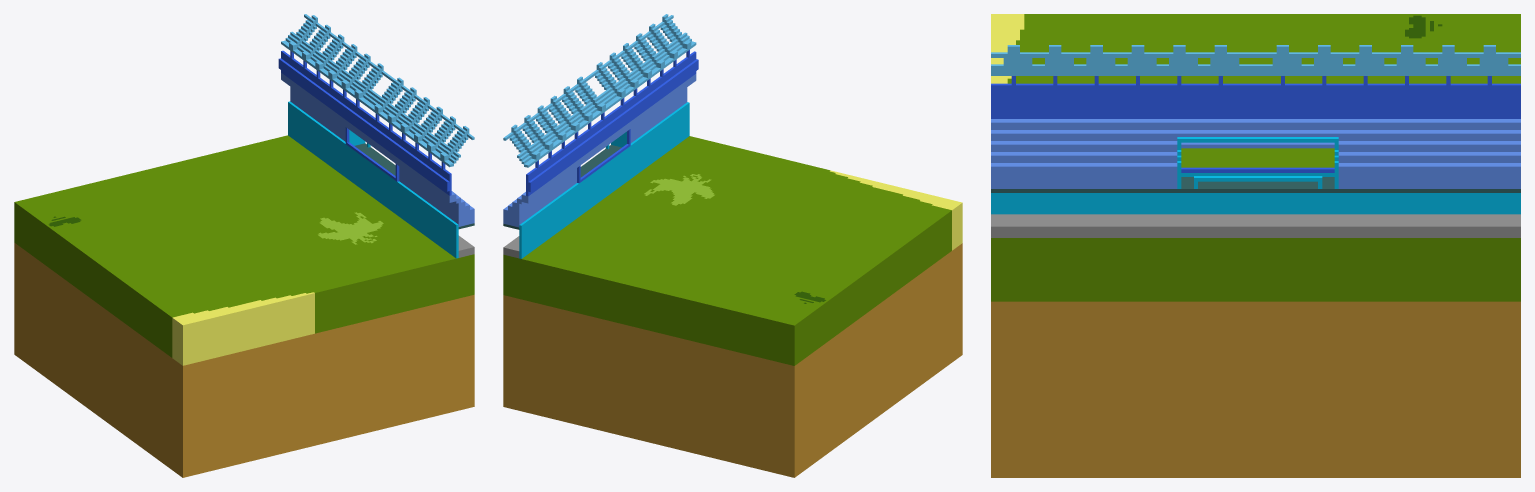
3 views of the same model, side by side, from view 1: azimuth 30°, elevation 25°; view 2: azimuth 150°, elevation 25°; view 3: azimuth 270°, elevation 25° (orthographic). The views are drawn at different scales.
Parts seen in each view (by area): view 1: 4L-5; view 2: 4L-5; view 3: 4L-5.
Boxes of the visible parts, x1=… form: 4L-5: x1=14, y1=14, x2=474, y2=477; 4L-5: x1=503, y1=14, x2=962, y2=477; 4L-5: x1=991, y1=14, x2=1520, y2=477.
Size of the model in its own units: 12.8 by 11.5 by 12.8.
1 material, 1 textured.
